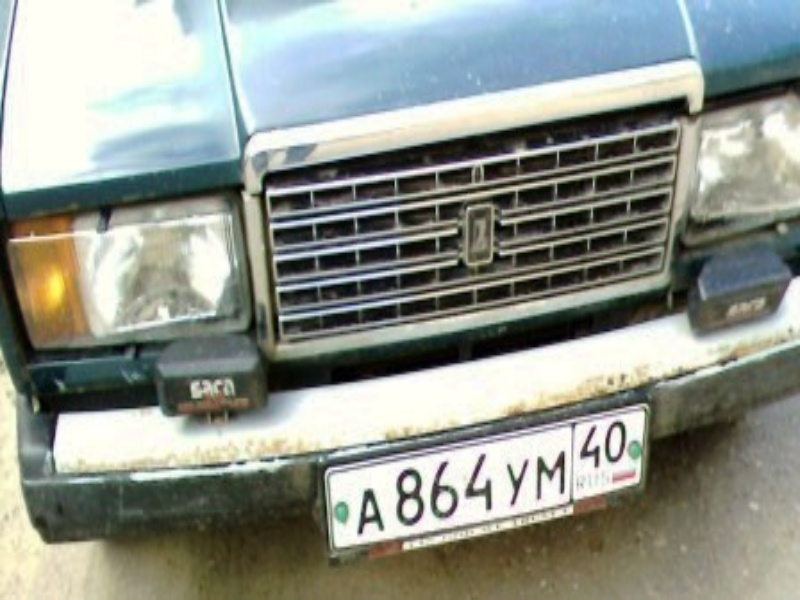car: (1, 1, 800, 544)
plate: (325, 404, 648, 552)
